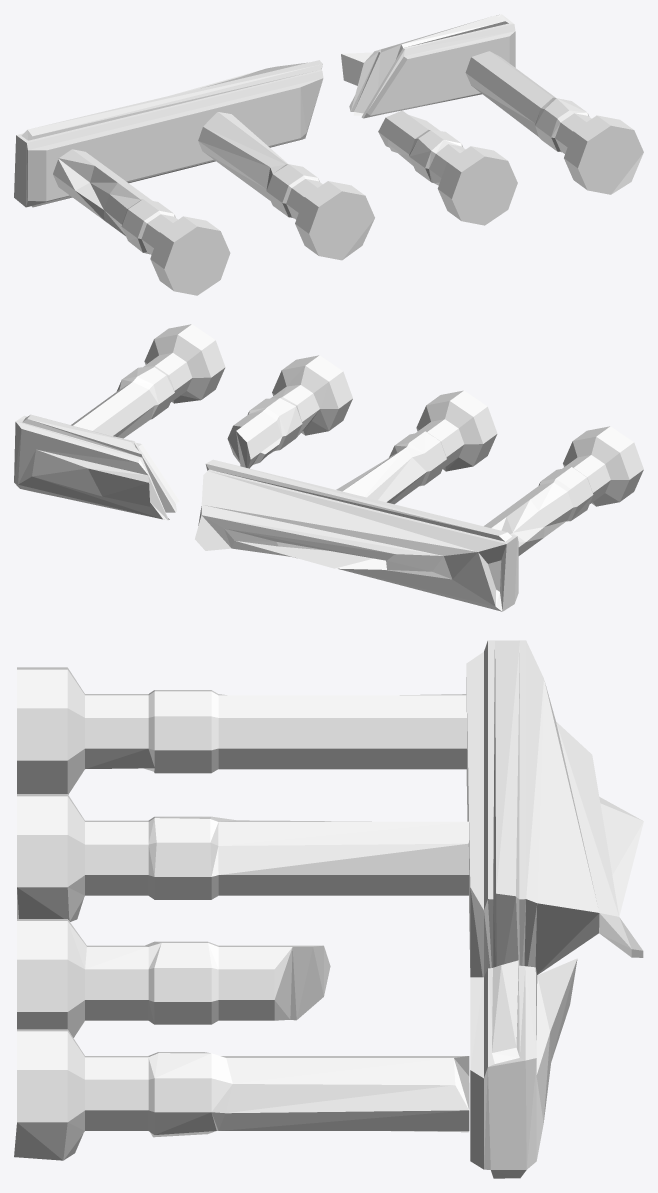
Rendered from venice_col_obj_1.fbx.
The picture shows the model from 3 angles, top to bottom: view 1: azimuth 30°, elevation 25°; view 2: azimuth 150°, elevation 25°; view 3: azimuth 270°, elevation 25°; orthographic projection. The views are drawn at different scales.
Parts seen in each view (by area): view 1: Cylinder.044; view 2: Cylinder.044; view 3: Cylinder.044.
Boxes of the visible parts, box(x1,y1,x2,y2) form: Cylinder.044: box(14, 14, 643, 295); Cylinder.044: box(14, 324, 643, 611); Cylinder.044: box(14, 640, 643, 1178).
Size of the model in its own units: 2124 by 316 by 1323.
